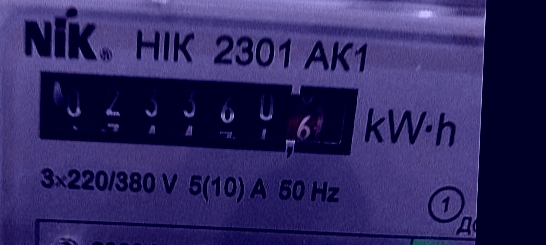0: (62, 83, 85, 119), (255, 88, 278, 124)
2: (102, 83, 124, 118)
3: (141, 84, 162, 120), (180, 85, 199, 120)
6: (217, 90, 238, 125), (294, 108, 313, 142)
screen: (23, 58, 378, 173)
